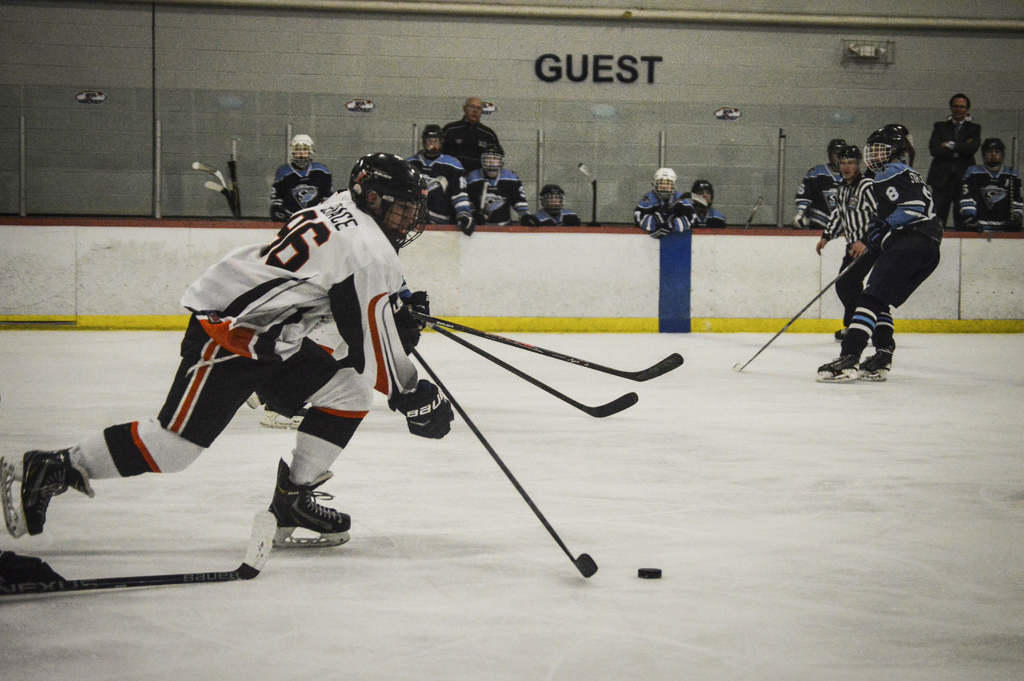Person: (0, 153, 456, 556), (268, 91, 1024, 232), (810, 127, 942, 385), (816, 145, 876, 343)
